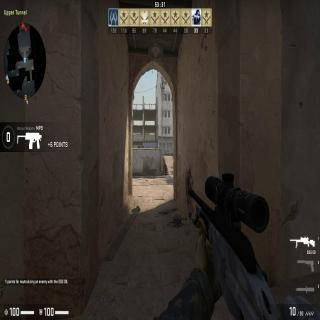T-Body: (164, 162, 167, 175)
T-Head: (165, 163, 166, 166)
